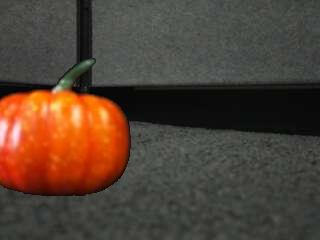Pumpkin: (1, 57, 133, 199)
